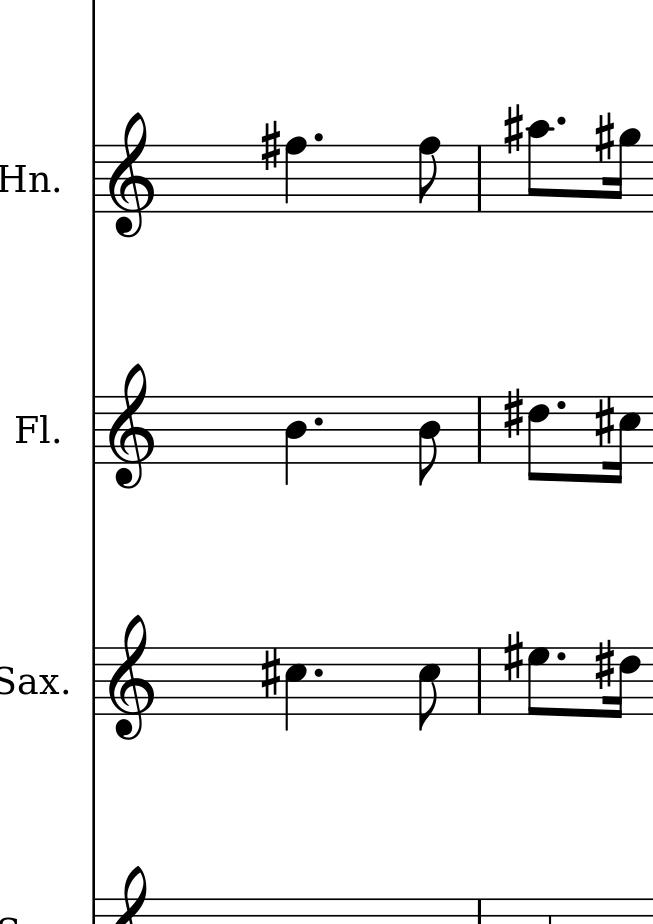16_5: (607, 397, 641, 486)
16_6: (611, 645, 641, 721)
16_9: (608, 126, 639, 216)
4_4: (284, 395, 307, 488)
4_5: (283, 646, 309, 731)
4_6: (283, 133, 307, 215)
8_10: (527, 117, 550, 216)
8_4: (417, 395, 442, 487)
8_5: (417, 646, 442, 731)
8_6: (526, 394, 551, 486)
8_7: (526, 646, 551, 717)
8_8: (416, 136, 442, 215)
Fl: (16, 412, 50, 445)
Gclef: (105, 111, 156, 238), (108, 361, 156, 491), (108, 614, 153, 744)
Hn: (1, 161, 50, 194)
Sax: (1, 663, 59, 702)
Sharp: (258, 647, 282, 701), (593, 395, 616, 449), (501, 631, 524, 683), (593, 639, 616, 691), (593, 111, 615, 164), (502, 388, 524, 440), (260, 120, 281, 173), (503, 103, 524, 156)
Single_barline: (87, 145, 102, 212), (472, 396, 487, 462), (472, 145, 487, 210), (87, 398, 102, 463), (472, 648, 487, 713), (88, 648, 101, 715)
dot: (310, 414, 326, 428), (311, 664, 325, 679), (554, 649, 568, 663), (554, 114, 567, 128), (554, 397, 567, 411), (311, 131, 324, 144)
